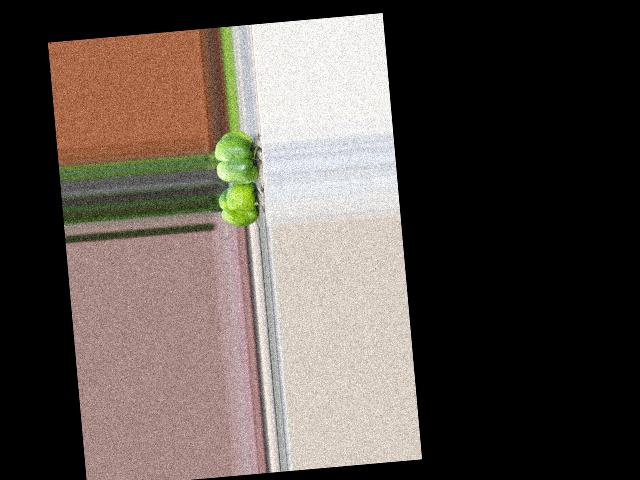bell_pepper: (215, 181, 263, 229)
